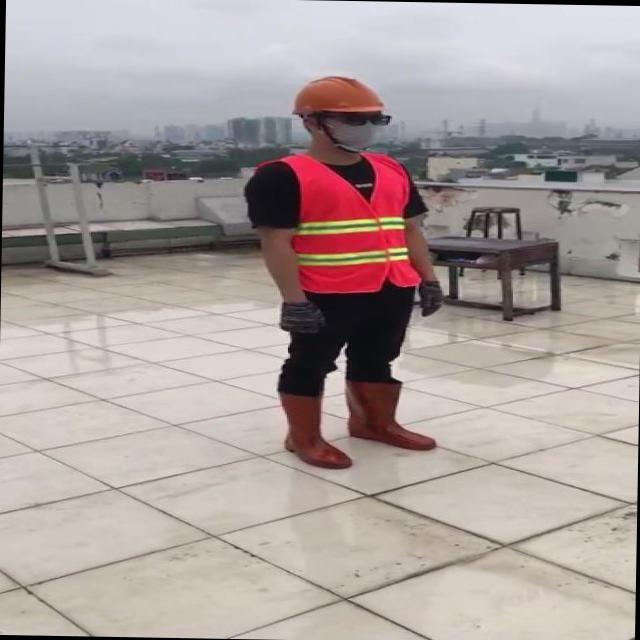hard_hat: (288, 70, 387, 117)
safety_vest: (255, 148, 424, 295)
vehicle: (234, 67, 442, 470)
work_boots: (262, 389, 356, 476), (343, 376, 442, 456)
